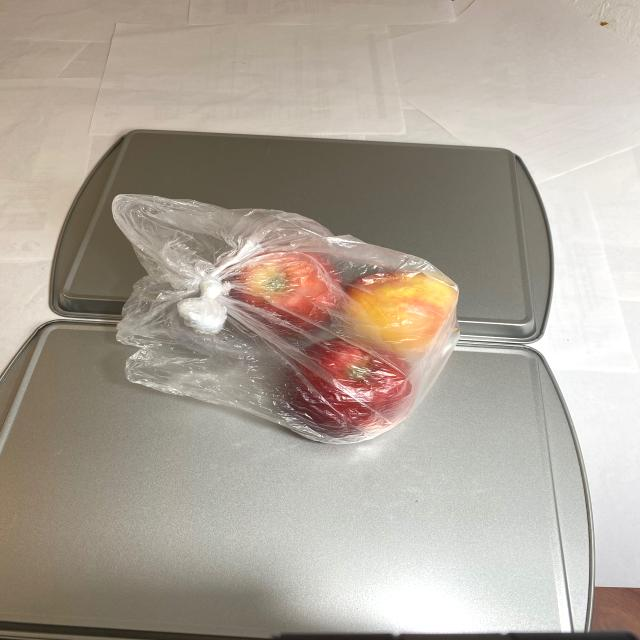apple: (224, 240, 462, 450)
